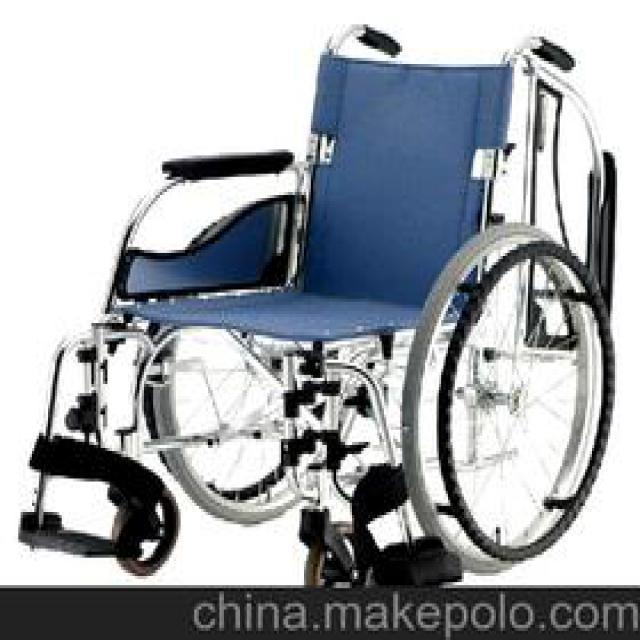wheelchairs: (21, 24, 615, 582)
